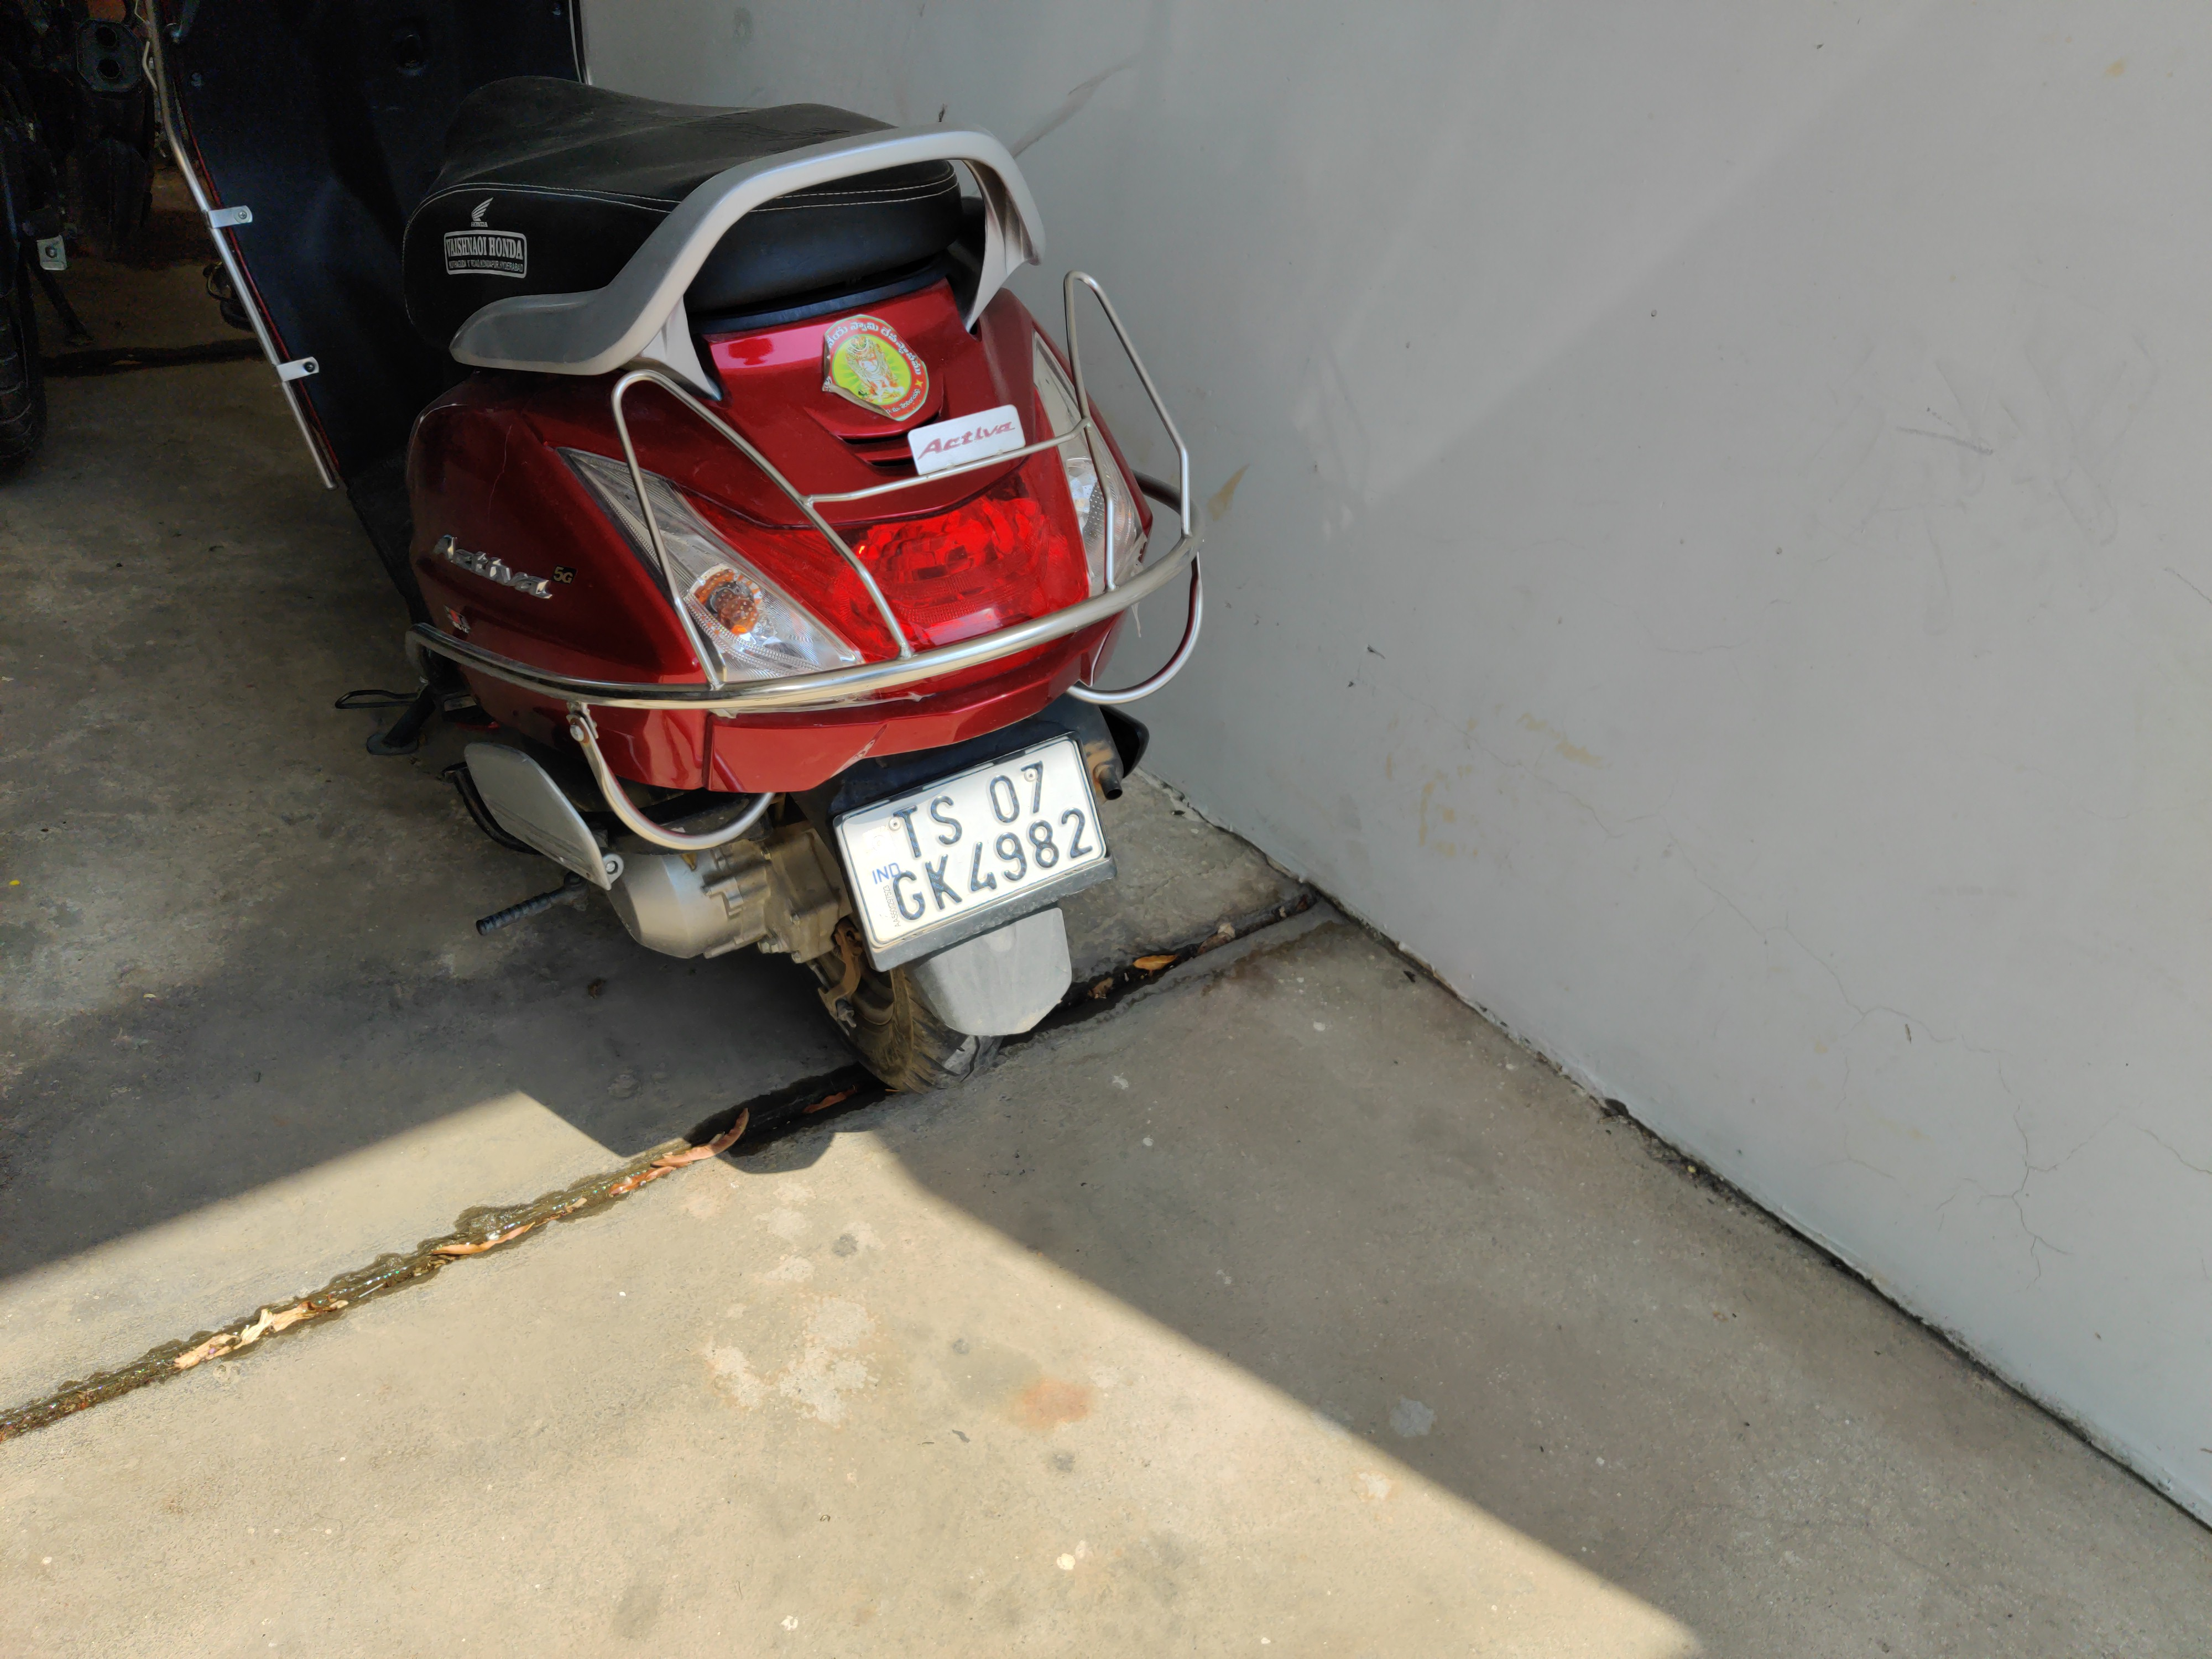plate: (797, 721, 1157, 956)
